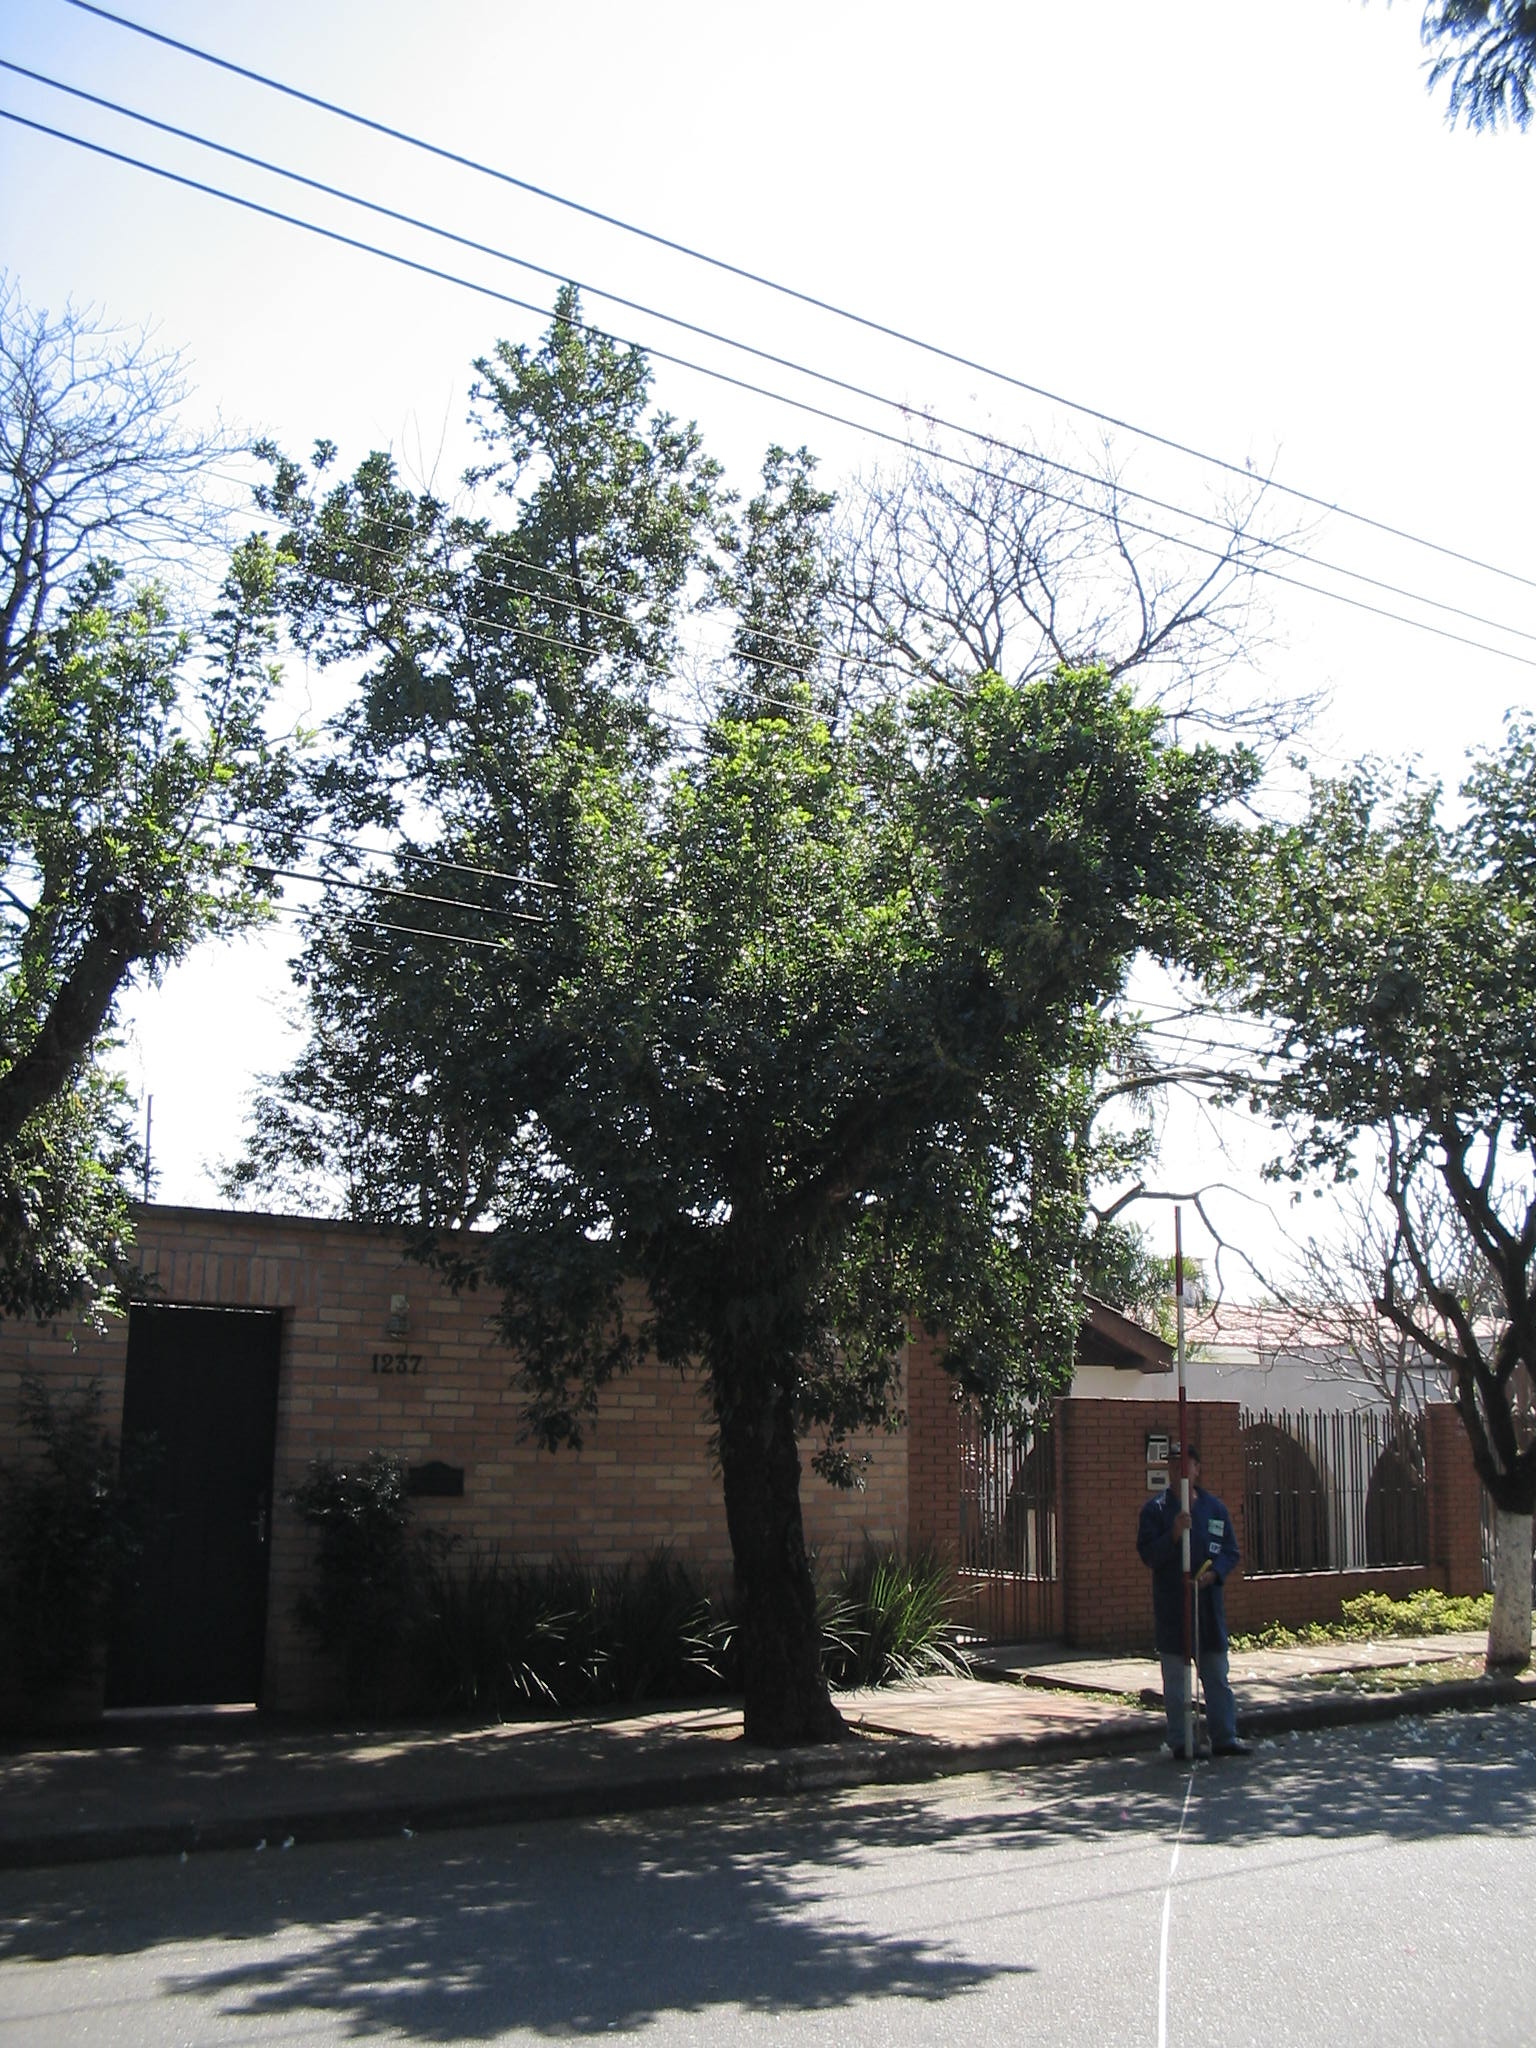crown: (261, 292, 1262, 1392), (1223, 721, 1533, 1242)
stem: (686, 1358, 866, 1742), (1449, 1479, 1536, 1664)
stick: (1149, 1203, 1225, 1761)
tree: (252, 287, 1265, 1746), (1212, 716, 1536, 1664)
